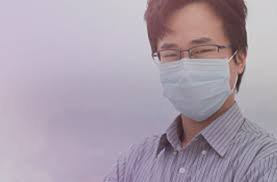mask: (140, 2, 277, 118)
